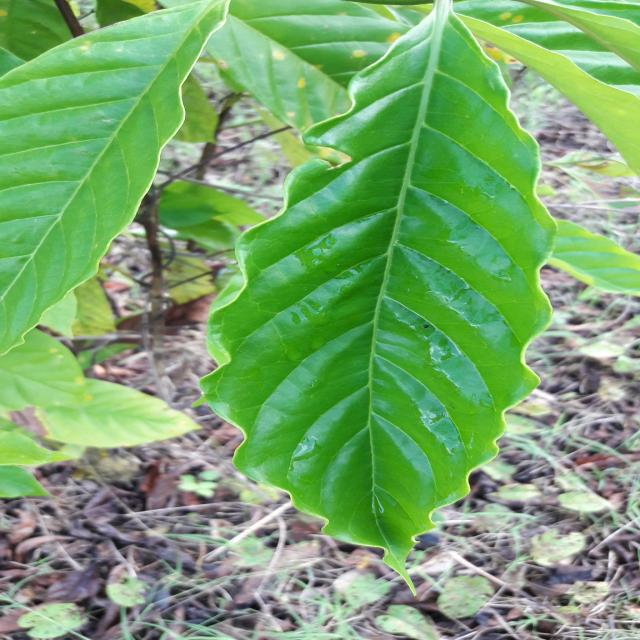Sanas: (198, 0, 557, 555)
